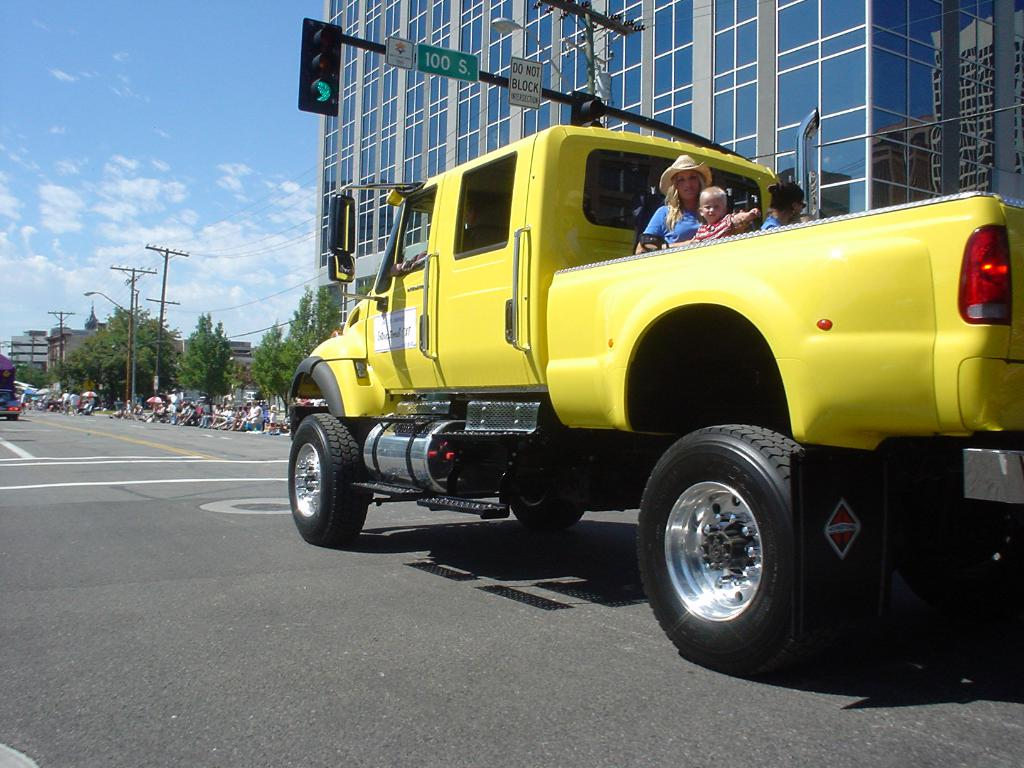Person: (633, 153, 753, 251), (143, 385, 278, 431), (689, 186, 762, 240), (758, 181, 807, 229)
